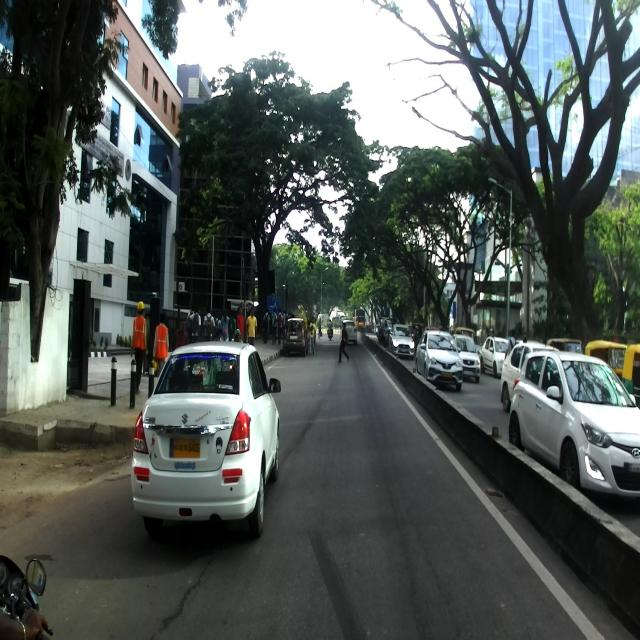car: (130, 340, 282, 539), (508, 350, 639, 499), (415, 329, 463, 390)
motorcycle: (0, 541, 55, 638)
